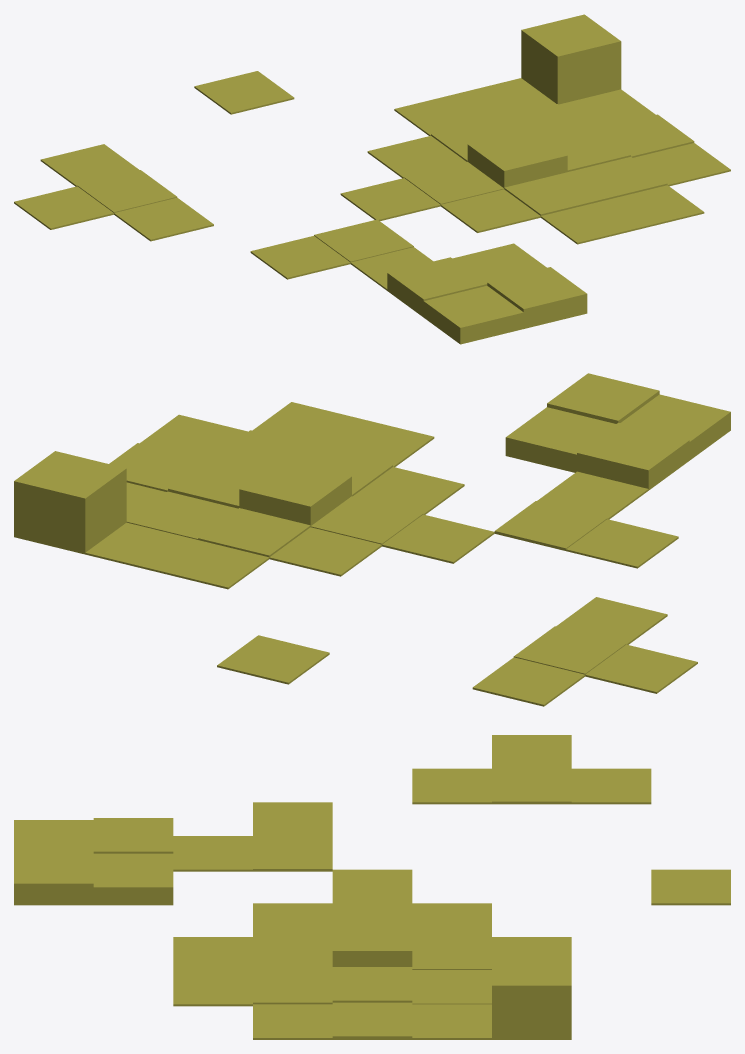
Rendered from SM_Terrain_Bare_06.fbx.
The picture shows the model from 3 angles, top to bottom: view 1: azimuth 30°, elevation 25°; view 2: azimuth 150°, elevation 25°; view 3: azimuth 270°, elevation 25°; orthographic projection. The views are drawn at different scales.
Visible parts, largest first — view 1: SM_Tile_Bare_06; view 2: SM_Tile_Bare_06; view 3: SM_Tile_Bare_06.
Boxes of the visible parts, x1,y1,x2,y2 form: SM_Tile_Bare_06: [14, 14, 730, 344]; SM_Tile_Bare_06: [14, 373, 730, 706]; SM_Tile_Bare_06: [14, 735, 730, 1039].
Bounding box in the file's own units: 3600 × 300 × 3600.
